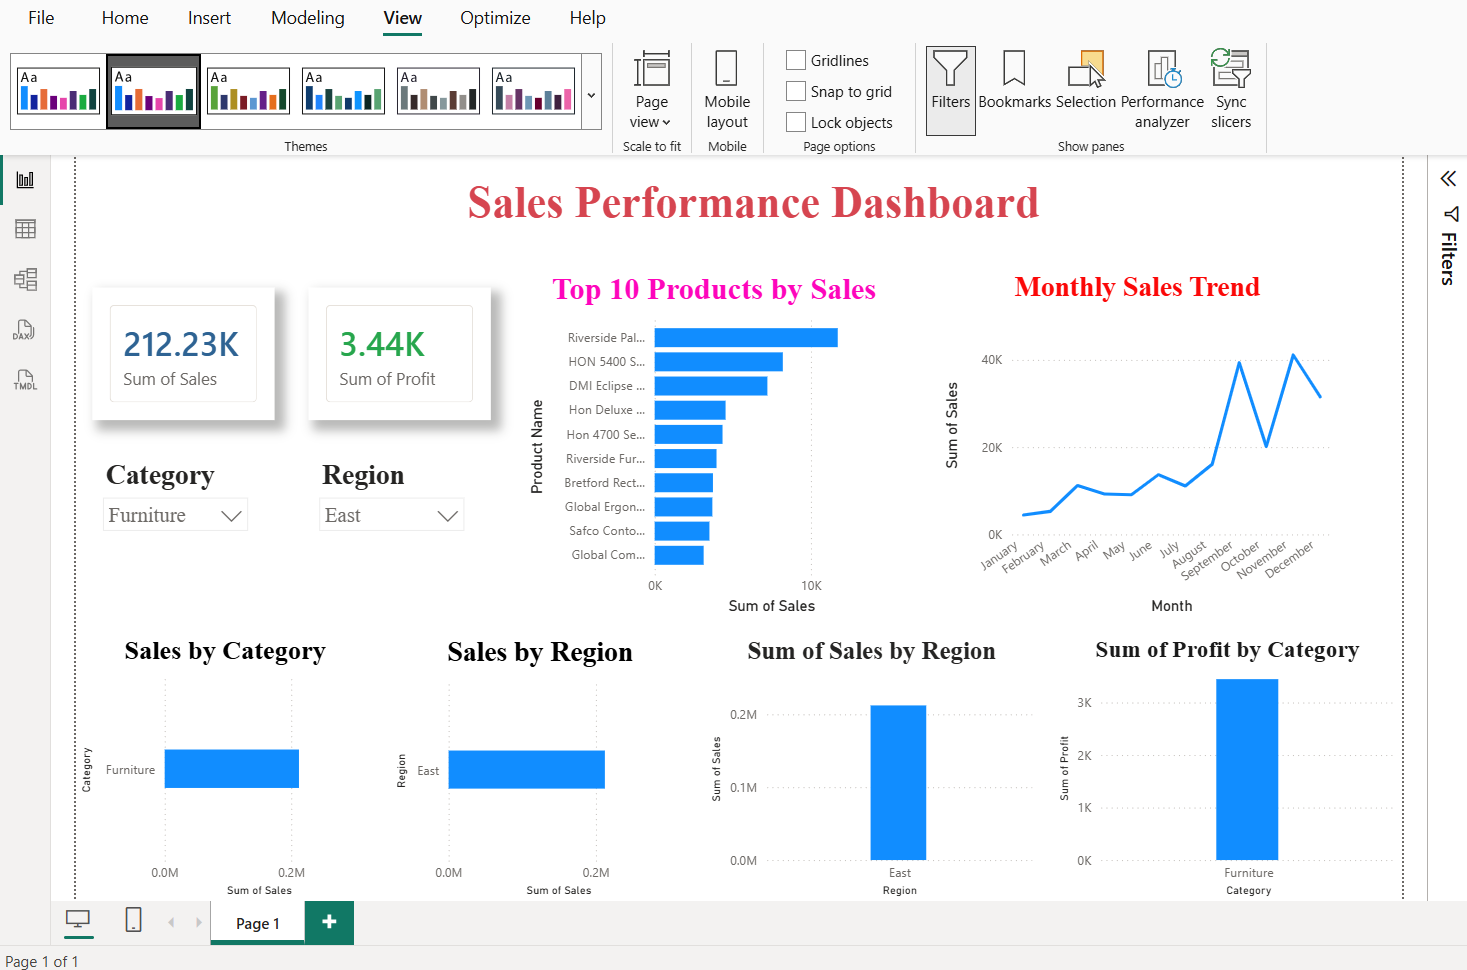

What the dashboard file says about the page in this screenshot:
{"tool":"powerbi","page":{"name":"Page 1","canvas":[1280,720],"ordinal":0},"visuals":[{"type":"cardVisual","fields":{"Data":["Sum(sample_-_superstore.Sales)"]},"box":[16,128,176,128],"z":0},{"type":"cardVisual","fields":{"Data":["Sum(sample_-_superstore.Profit)"]},"box":[224,128,176,128],"z":1000},{"type":"clusteredColumnChart","fields":{"Category":["sample_-_superstore.Region"],"Y":["Sum(sample_-_superstore.Sales)"]},"box":[608,464,320,256],"z":2000},{"type":"slicer","fields":{"Values":["sample_-_superstore.Region"]},"box":[224,288,160,112],"z":3000},{"type":"slicer","fields":{"Values":["sample_-_superstore.Category"]},"box":[16,288,160,112],"z":4000},{"type":"clusteredBarChart","title":"Sales by Category","fields":{"Category":["sample_-_superstore.Category"],"Y":["Sum(sample_-_superstore.Sales)"]},"box":[0,464,288,256],"z":5000},{"type":"clusteredBarChart","title":" Sales by Region","fields":{"Category":["sample_-_superstore.Region"],"Y":["Sum(sample_-_superstore.Sales)"]},"box":[304,464,288,256],"z":6000},{"type":"clusteredColumnChart","fields":{"Category":["sample_-_superstore.Category"],"Y":["Sum(sample_-_superstore.Profit)"]},"box":[944,464,336,256],"z":7000},{"type":"lineChart","title":"Monthly Sales Trend","fields":{"Y":["Sum(sample_-_superstore.Sales)"],"Category":["sample_-_superstore.Order Date.Variation.Date Hierarchy.Month"]},"box":[832,112,384,336],"z":8000},{"type":"clusteredBarChart","title":"Top 10 Products by Sales","fields":{"Category":["sample_-_superstore.Product Name"],"Y":["Sum(sample_-_superstore.Sales)"]},"box":[432,112,368,336],"z":9000},{"type":"textbox","box":[336,16,624,64],"z":10000}]}

Visuals, with their boxes on the page's 1280x720 design canvas (x1, y1, x2, y2). These are canvas units, not pixel positions in the 1467x970 screenshot, which may show the page scaled, cropped or inside an application window:
cardVisual - Sum(sample_-_superstore.Sales): Rect(16, 128, 192, 256)
cardVisual - Sum(sample_-_superstore.Profit): Rect(224, 128, 400, 256)
clusteredColumnChart - sample_-_superstore.Region x Sum(sample_-_superstore.Sales): Rect(608, 464, 928, 720)
slicer - sample_-_superstore.Region: Rect(224, 288, 384, 400)
slicer - sample_-_superstore.Category: Rect(16, 288, 176, 400)
"Sales by Category" clusteredBarChart: Rect(0, 464, 288, 720)
" Sales by Region" clusteredBarChart: Rect(304, 464, 592, 720)
clusteredColumnChart - sample_-_superstore.Category x Sum(sample_-_superstore.Profit): Rect(944, 464, 1280, 720)
"Monthly Sales Trend" lineChart: Rect(832, 112, 1216, 448)
"Top 10 Products by Sales" clusteredBarChart: Rect(432, 112, 800, 448)
textbox: Rect(336, 16, 960, 80)
